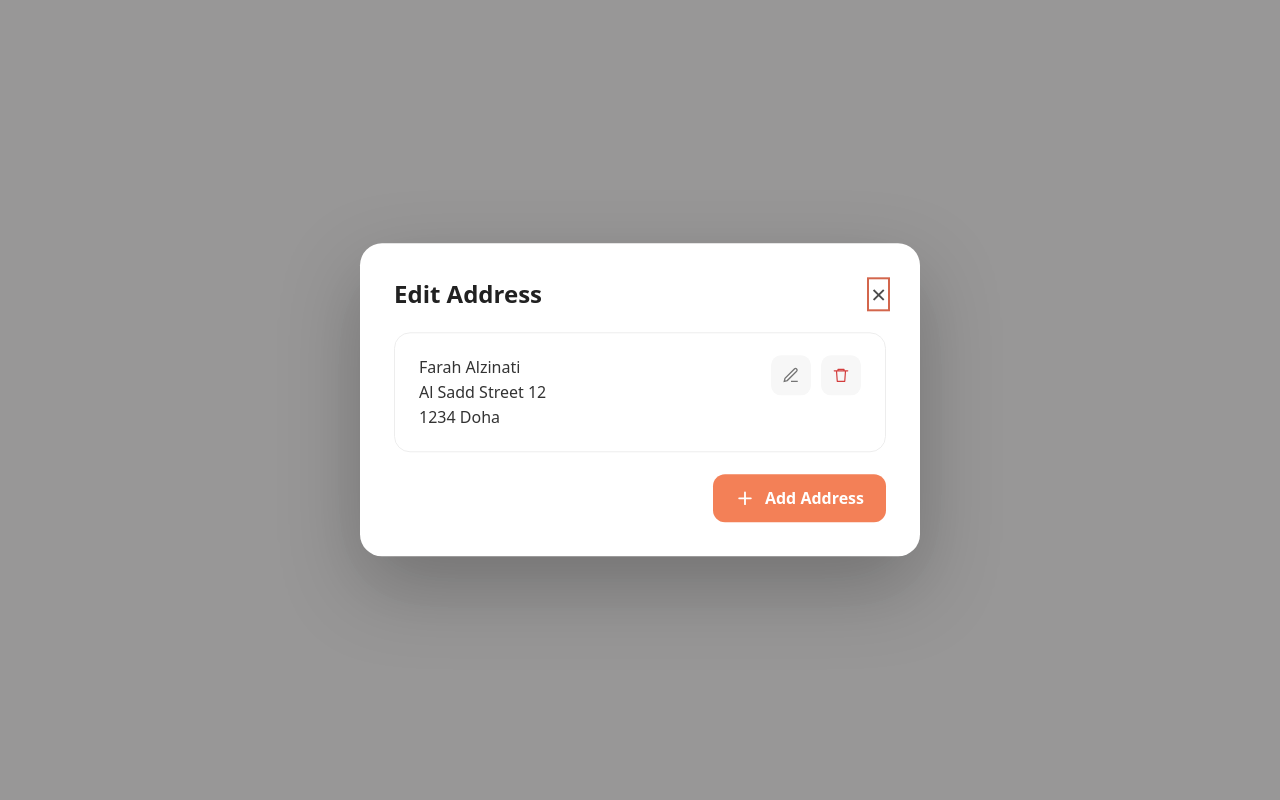
it: deleting an address › keeps the address when the question is cancelled
Click the button named "Delete Al Sadd Street 12, Doha": (841, 375) x1=821 y1=355 x2=861 y2=395
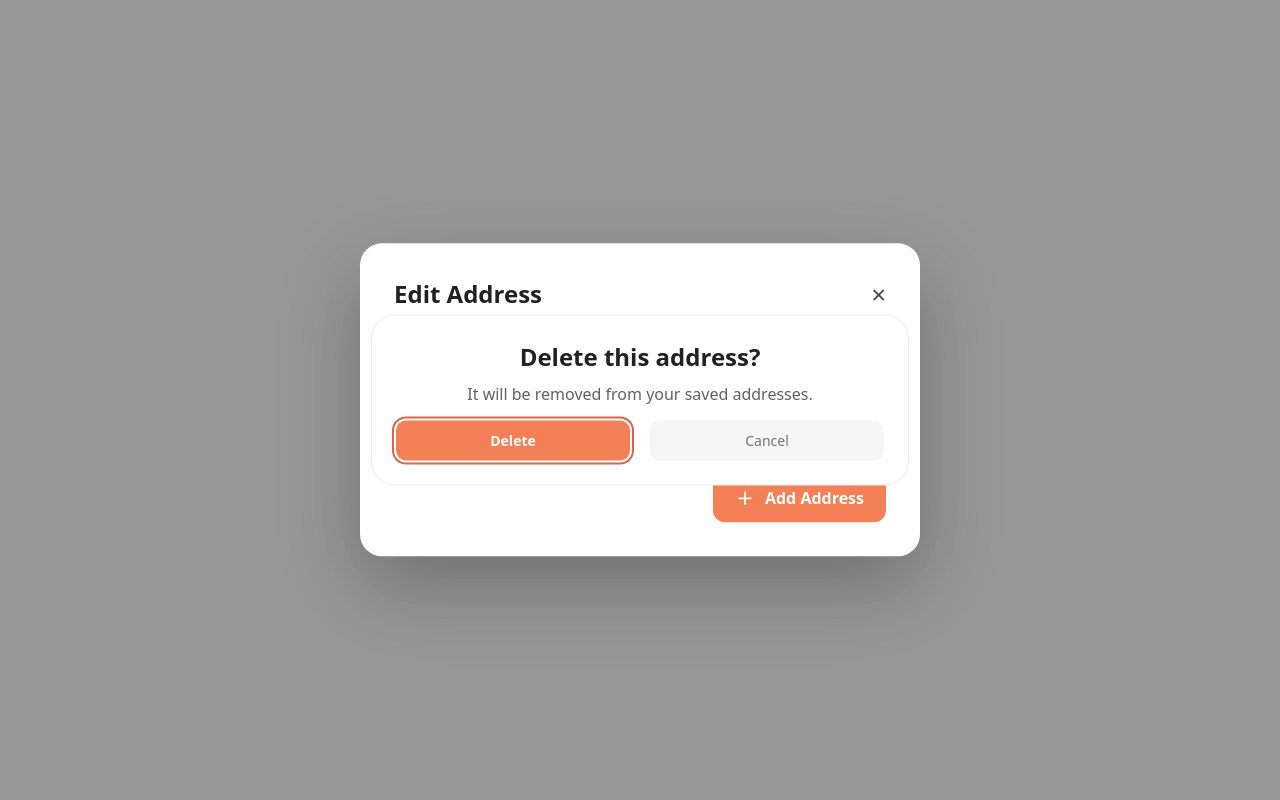
Click the button "Cancel": (767, 440) x1=650 y1=420 x2=884 y2=460
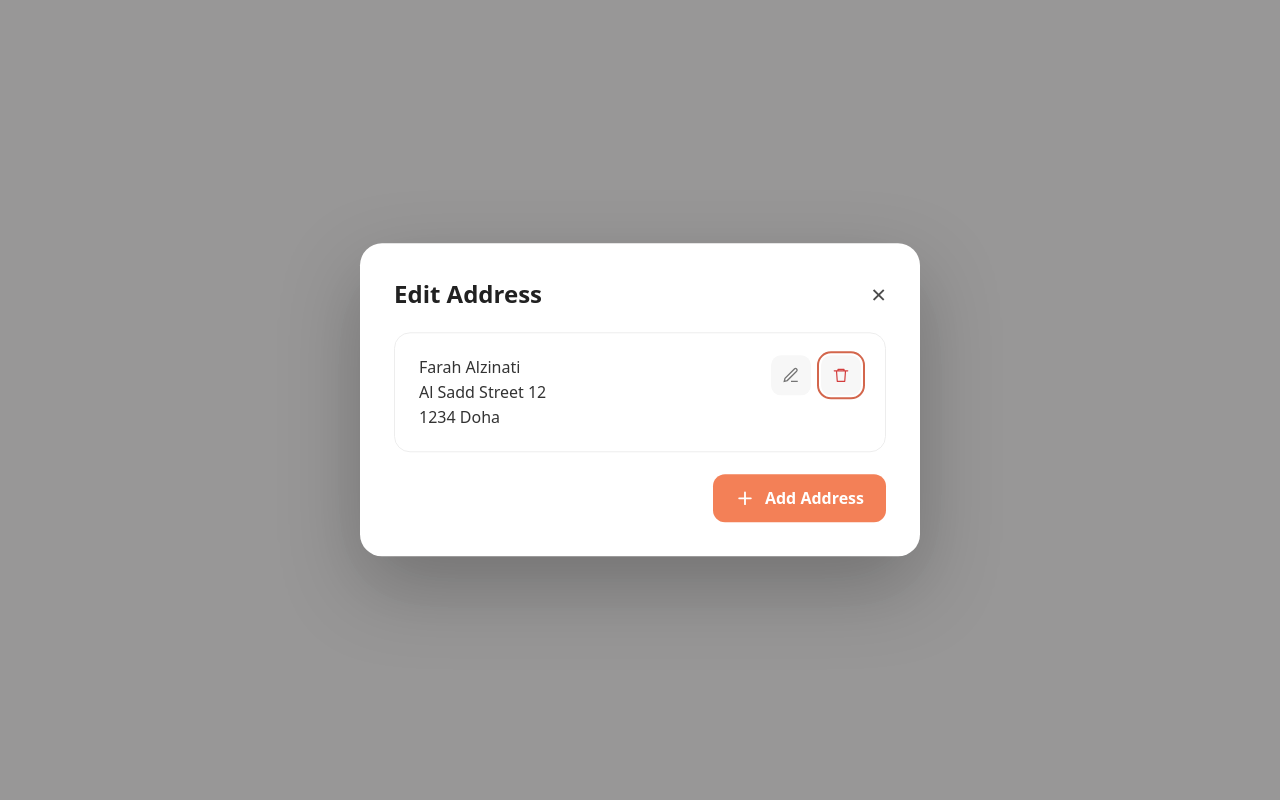
Expected: the heading "Delete this address?" is gone
